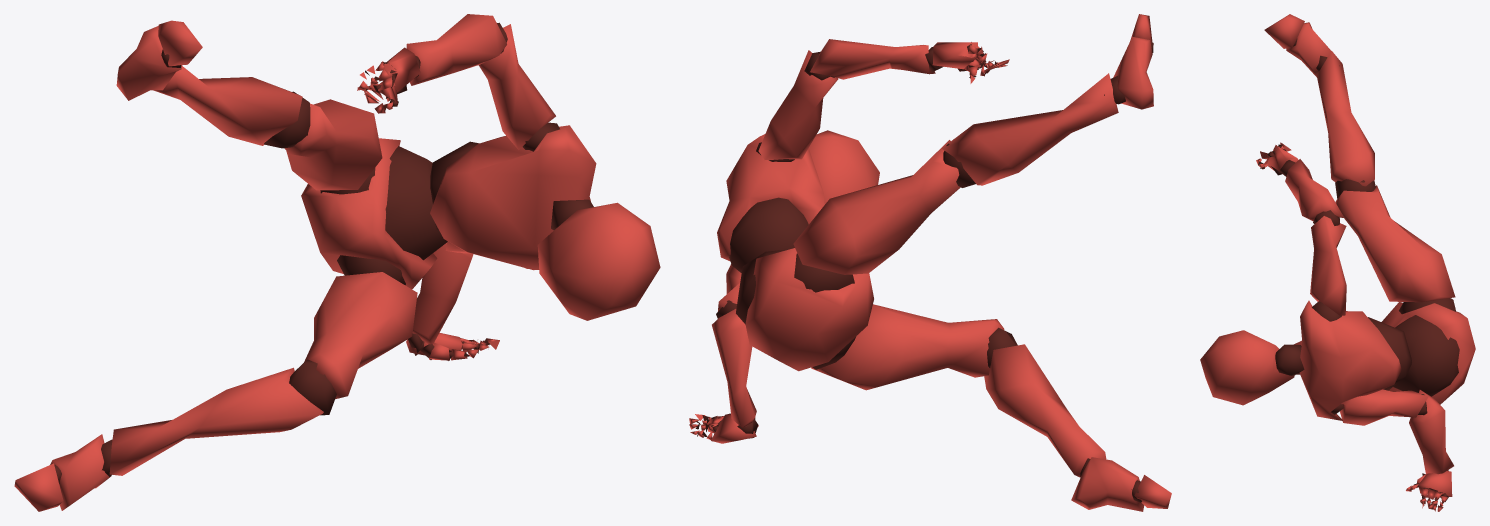
3 views of the same model, side by side, from view 1: azimuth 30°, elevation 25°; view 2: azimuth 150°, elevation 25°; view 3: azimuth 270°, elevation 25° (orthographic). The views are drawn at different scales.
Visible parts, largest first — view 1: Beta_Surface; view 2: Beta_Surface; view 3: Beta_Surface.
Part boxes in pixels (x1,y1,x2,y2): Beta_Surface: (14,14,660,511); Beta_Surface: (689,14,1171,511); Beta_Surface: (1200,14,1475,511).
Size of the model in its own units: 13.13 by 12.05 by 8.27.
